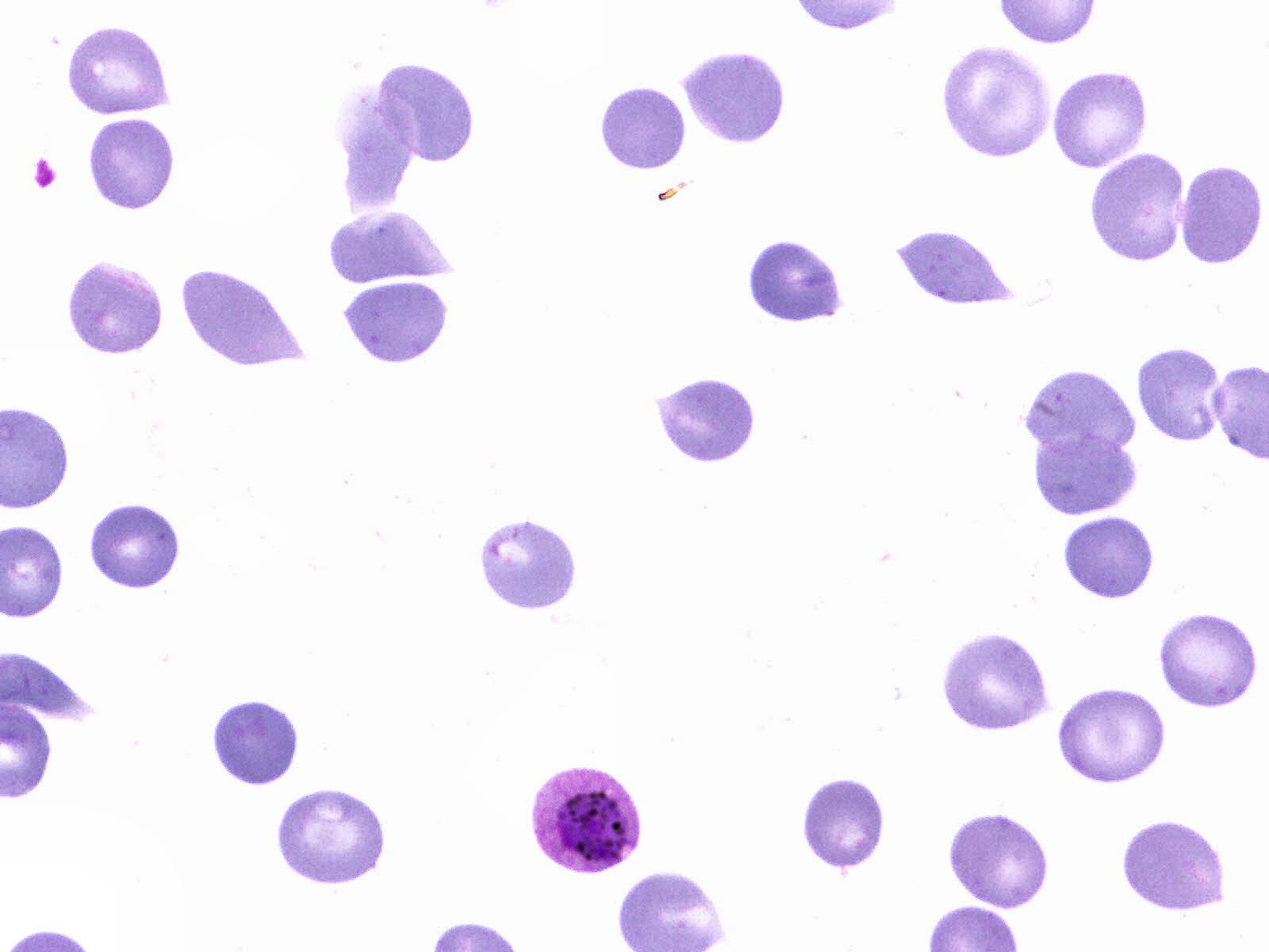Infected: (531, 769, 642, 875)
Uninfected: (272, 784, 389, 887), (1091, 146, 1190, 266), (182, 271, 305, 367), (948, 49, 1047, 162), (1056, 686, 1167, 785), (941, 633, 1049, 733), (682, 46, 787, 146), (1123, 818, 1229, 915), (1160, 608, 1259, 711), (949, 812, 1052, 909), (67, 258, 170, 355), (1052, 68, 1149, 171), (1026, 371, 1137, 459), (898, 228, 1014, 311), (481, 516, 578, 615), (342, 278, 450, 366), (66, 29, 174, 117), (331, 209, 458, 282), (654, 375, 757, 465), (89, 113, 180, 212), (1178, 158, 1260, 267), (378, 65, 468, 163), (747, 238, 845, 327), (1036, 432, 1137, 517), (90, 498, 184, 589), (1134, 349, 1224, 443), (212, 696, 305, 785), (1063, 513, 1156, 601), (803, 770, 884, 866), (602, 87, 685, 171)
